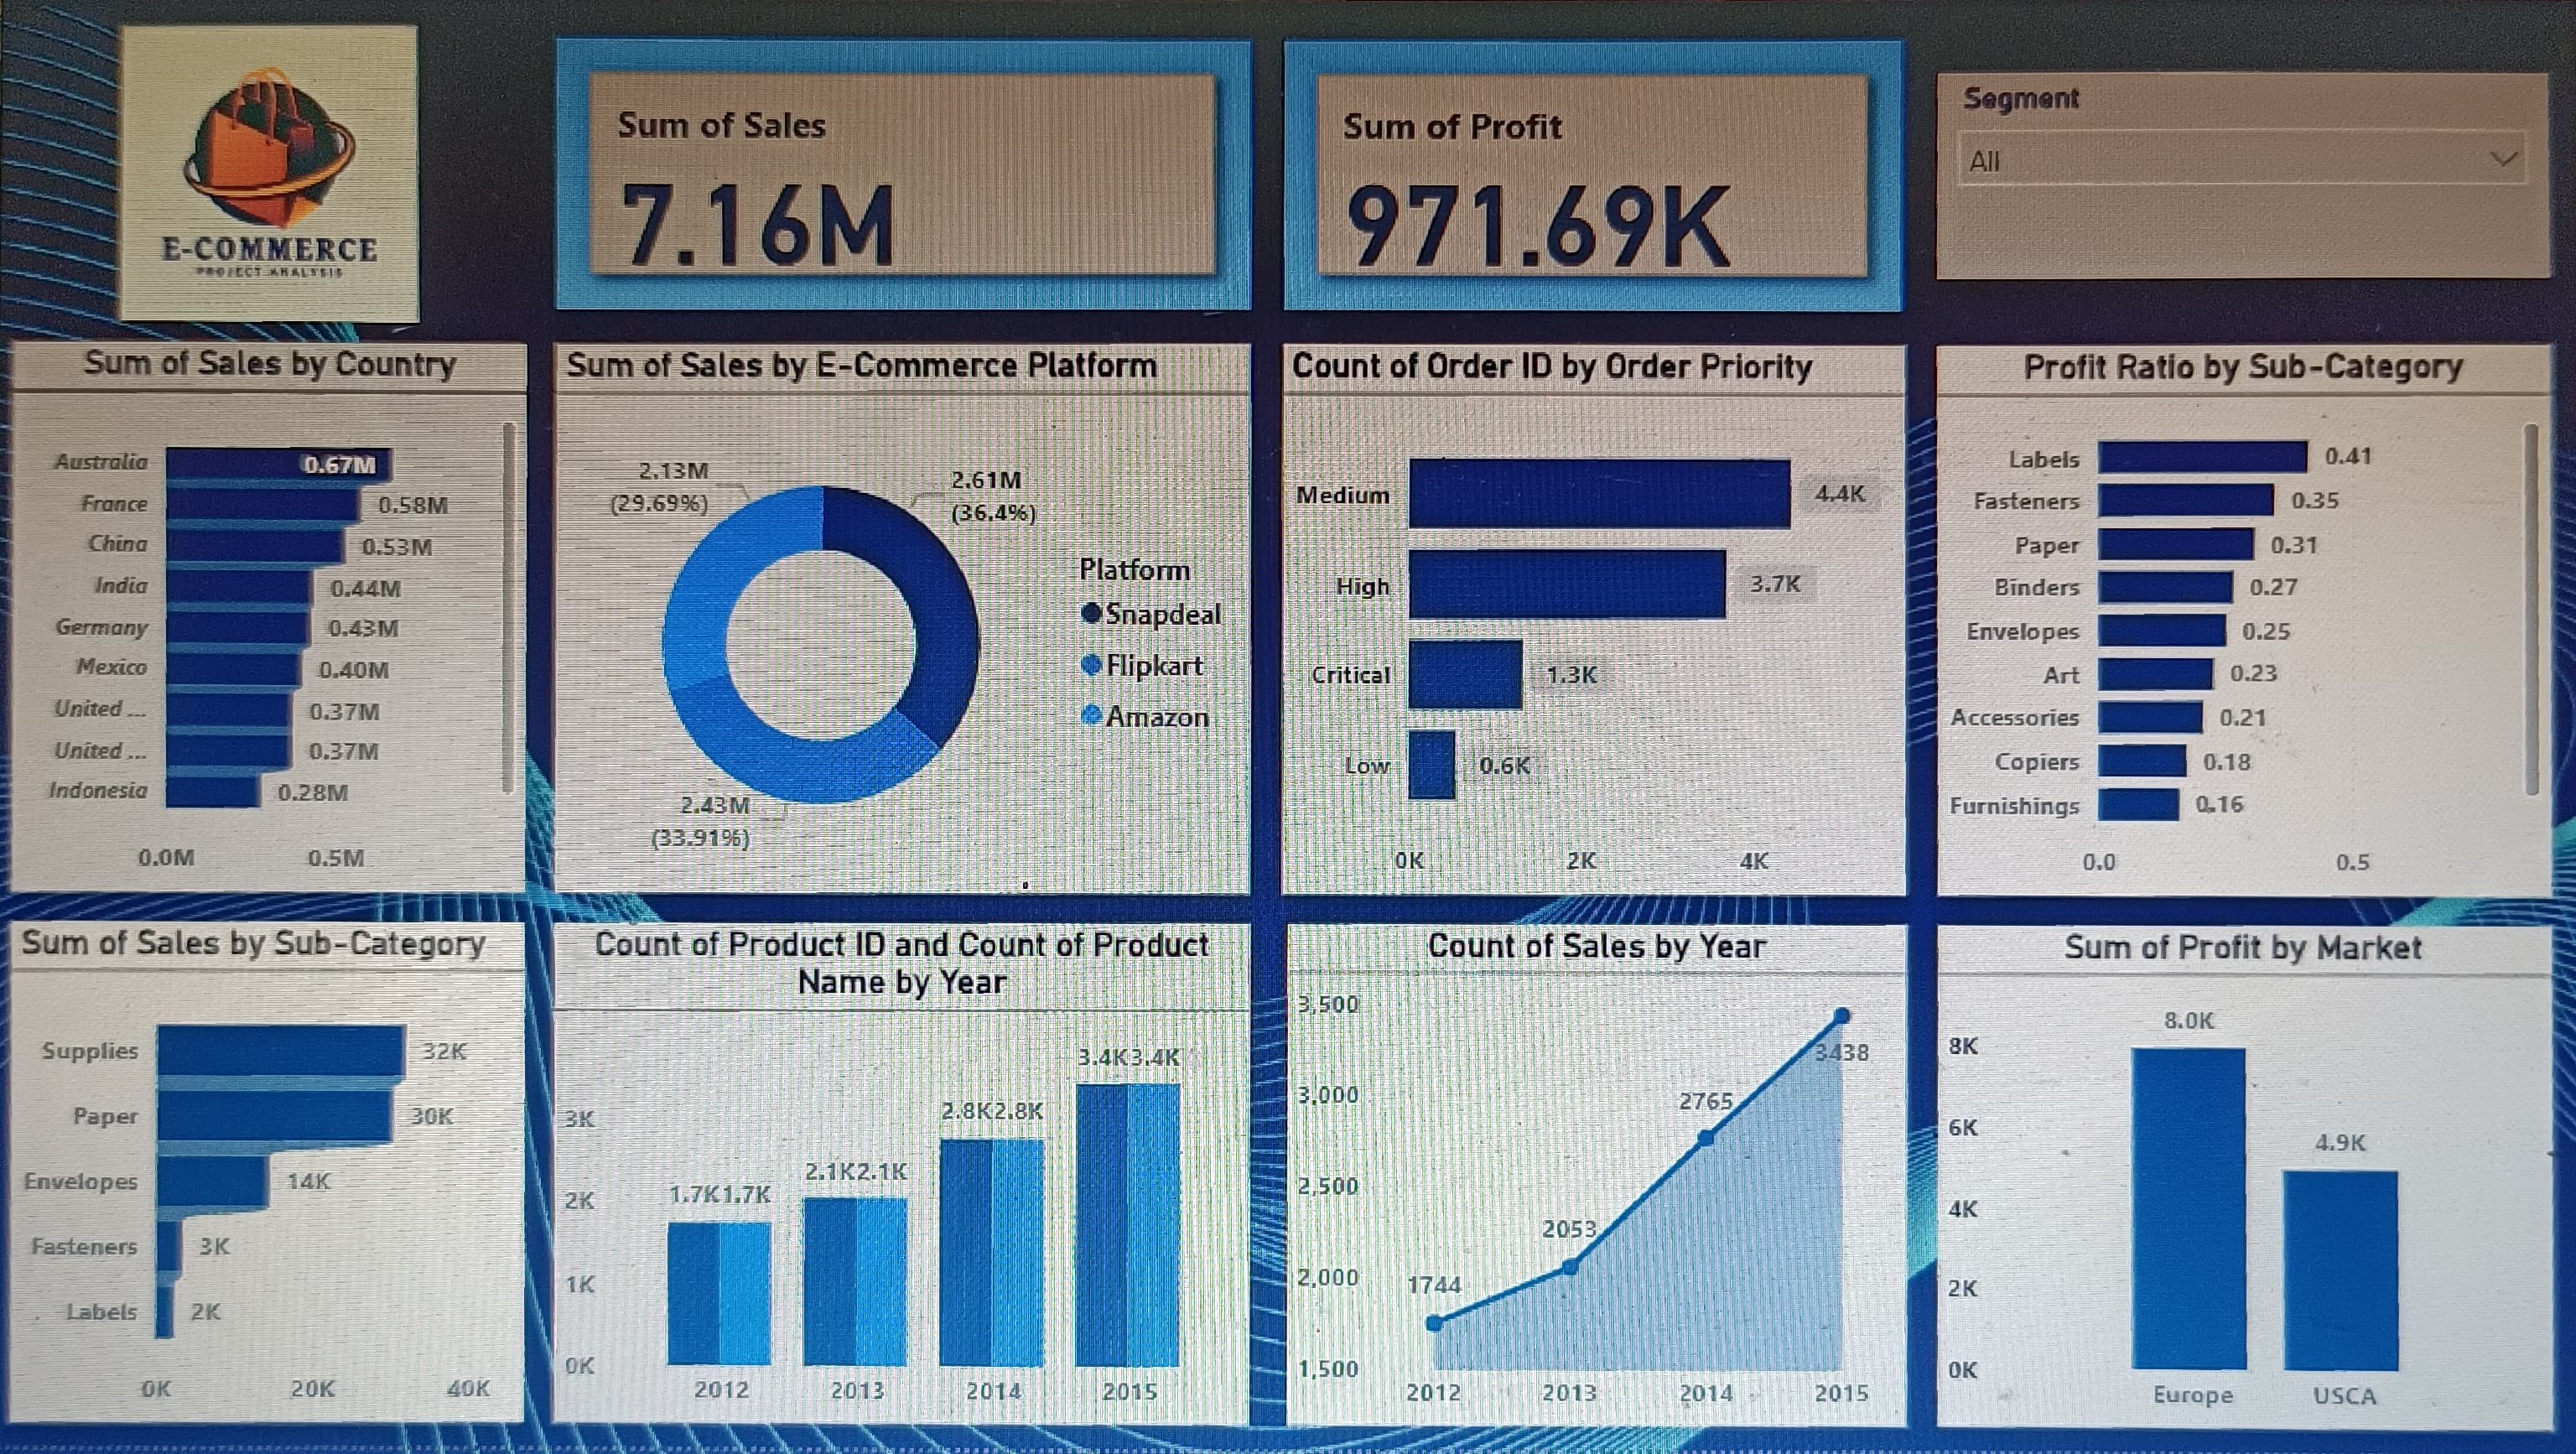

The page's visual inventory and layout, read from the dashboard file:
{"tool":"powerbi","page":{"name":"E- Commerce Analysis","canvas":[1280,720],"ordinal":1},"visuals":[{"type":"clusteredColumnChart","fields":{"Category":["Data.Market"],"Y":["Sum(Data.Profit)"]},"box":[961.7,460,301.7,248.3],"z":0},{"type":"barChart","fields":{"Category":["Data.Sub-Category"],"Y":["Data.Profit Ratio"]},"box":[962.3,173.1,301.5,272.7],"z":1000},{"type":"barChart","fields":{"Category":["Data.Sub-Category"],"Y":["Sum(Data.Sales)"]},"box":[8.7,460.2,253.9,248.2],"z":2000},{"type":"donutChart","title":"Sum of Sales by E-Commerce Platform","fields":{"Category":["Data.E-Commerce Site"],"Y":["Sum(Data.Sales)"]},"box":[277,173.1,344.8,272.7],"z":3000},{"type":"clusteredBarChart","fields":{"Category":["Data.Order Priority"],"Y":["CountNonNull(Data.Order ID)"]},"box":[637.7,173.1,308.8,272.7],"z":4000},{"type":"lineChart","fields":{"Category":["Data.Order Date.Variation.Date Hierarchy.Year"],"Y":["CountNonNull(Data.Sales)"]},"box":[637.7,460.2,308.8,248.2],"z":5000},{"type":"cardVisual","fields":{"Data":["Sum(Data.Profit)"]},"box":[637.7,21.6,307.3,134.2],"z":6000},{"type":"cardVisual","fields":{"Data":["Sum(Data.Sales)"]},"box":[277,21.6,344.8,134.2],"z":7000},{"type":"clusteredColumnChart","fields":{"Category":["Data.Order Date.Variation.Date Hierarchy.Year"],"Y":["CountNonNull(Data.Product ID)","CountNonNull(Data.Product Name)"]},"box":[276.7,460,345,248.3],"z":8000},{"type":"slicer","fields":{"Values":["Data.Segment"]},"box":[962.3,37.5,301.5,102.4],"z":9000},{"type":"barChart","fields":{"Category":["Data.Country"],"Y":["Sum(Data.Sales)"]},"box":[8.7,173.1,253.9,272.7],"z":10000},{"type":"image","box":[8.7,11.5,253.9,155.8],"z":11000}]}

Visuals, with their boxes in screenshot pixels (x1, y1, x2, y2), scaled from the page's 1280x720 canvas onto the 2576x1454 screenshot:
clusteredColumnChart - Data.Market x Sum(Data.Profit): [left=1935, top=929, right=2542, bottom=1431]
barChart - Data.Sub-Category x Data.Profit Ratio: [left=1937, top=350, right=2543, bottom=901]
barChart - Data.Sub-Category x Sum(Data.Sales): [left=18, top=929, right=528, bottom=1431]
"Sum of Sales by E-Commerce Platform" donutChart: [left=558, top=350, right=1251, bottom=901]
clusteredBarChart - Data.Order Priority x CountNonNull(Data.Order ID): [left=1283, top=350, right=1905, bottom=901]
lineChart - Data.Order Date.Variation.Date Hierarchy.Year x CountNonNull(Data.Sales): [left=1283, top=929, right=1905, bottom=1431]
cardVisual - Sum(Data.Profit): [left=1283, top=44, right=1902, bottom=314]
cardVisual - Sum(Data.Sales): [left=558, top=44, right=1251, bottom=314]
clusteredColumnChart - Data.Order Date.Variation.Date Hierarchy.Year x CountNonNull(Data.Product ID): [left=557, top=929, right=1251, bottom=1431]
slicer - Data.Segment: [left=1937, top=75, right=2543, bottom=283]
barChart - Data.Country x Sum(Data.Sales): [left=18, top=350, right=528, bottom=901]
image: [left=18, top=23, right=528, bottom=338]
